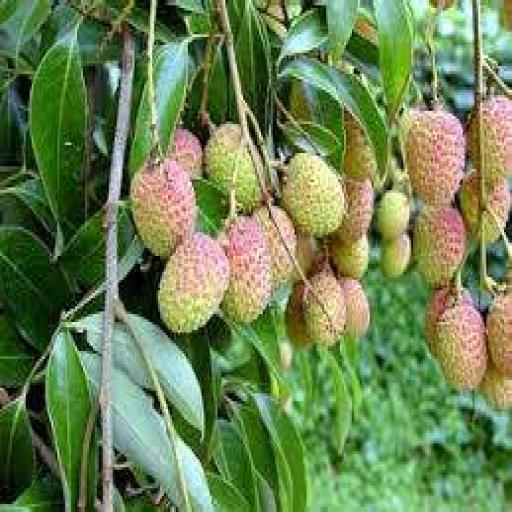lychee: (159, 233, 229, 332), (131, 159, 197, 258), (406, 111, 464, 205), (222, 217, 272, 321), (283, 154, 345, 237), (204, 125, 262, 211), (435, 304, 488, 390), (414, 206, 466, 287), (254, 206, 296, 290), (303, 270, 345, 345), (426, 288, 472, 356), (481, 96, 511, 182), (335, 180, 373, 242), (344, 111, 377, 182), (487, 293, 511, 377), (285, 283, 312, 348), (483, 180, 510, 242), (171, 127, 203, 179), (341, 278, 369, 337), (378, 191, 411, 240), (331, 238, 369, 279), (380, 233, 411, 279), (481, 365, 511, 409), (297, 233, 316, 277), (429, 0, 456, 10)
